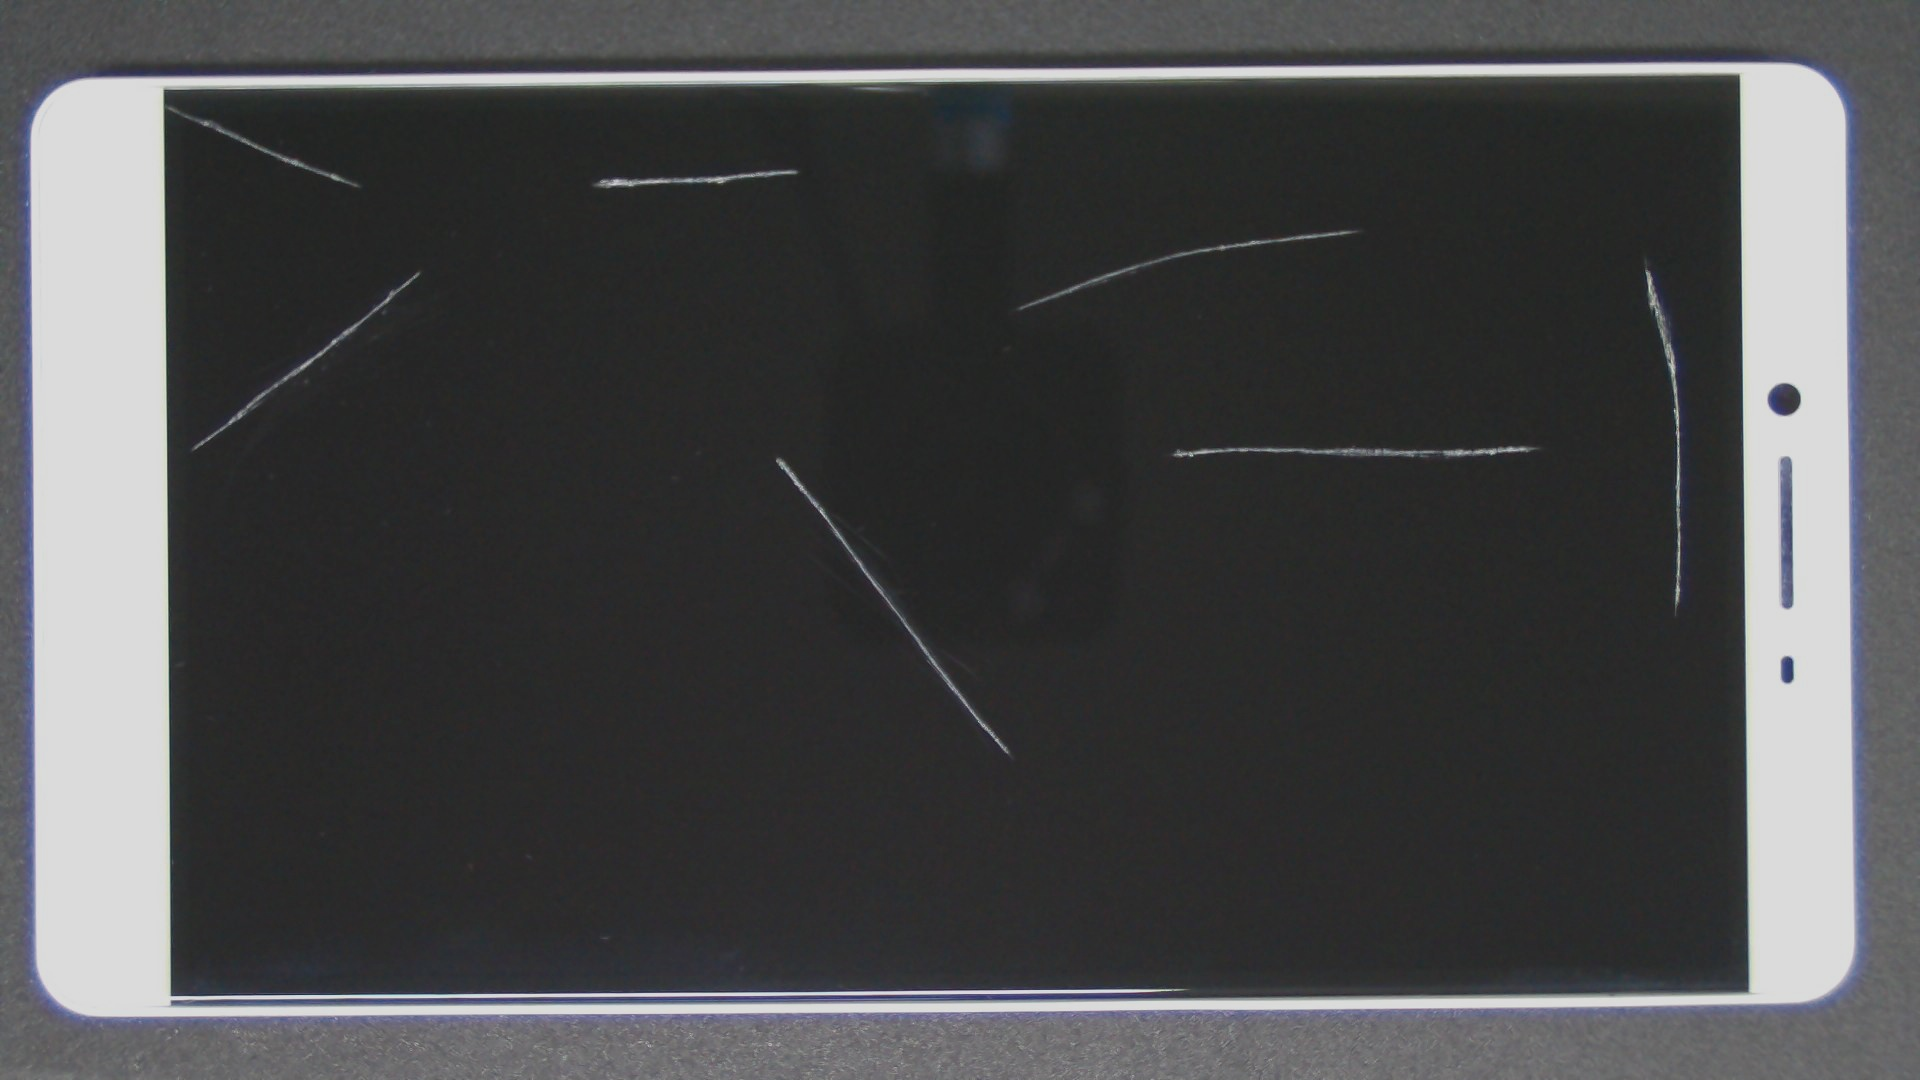oil: (760, 222, 1920, 669), (388, 228, 1163, 684), (823, 128, 1920, 389), (674, 113, 1920, 343), (396, 84, 1185, 255), (211, 135, 629, 406), (84, 51, 251, 158)
